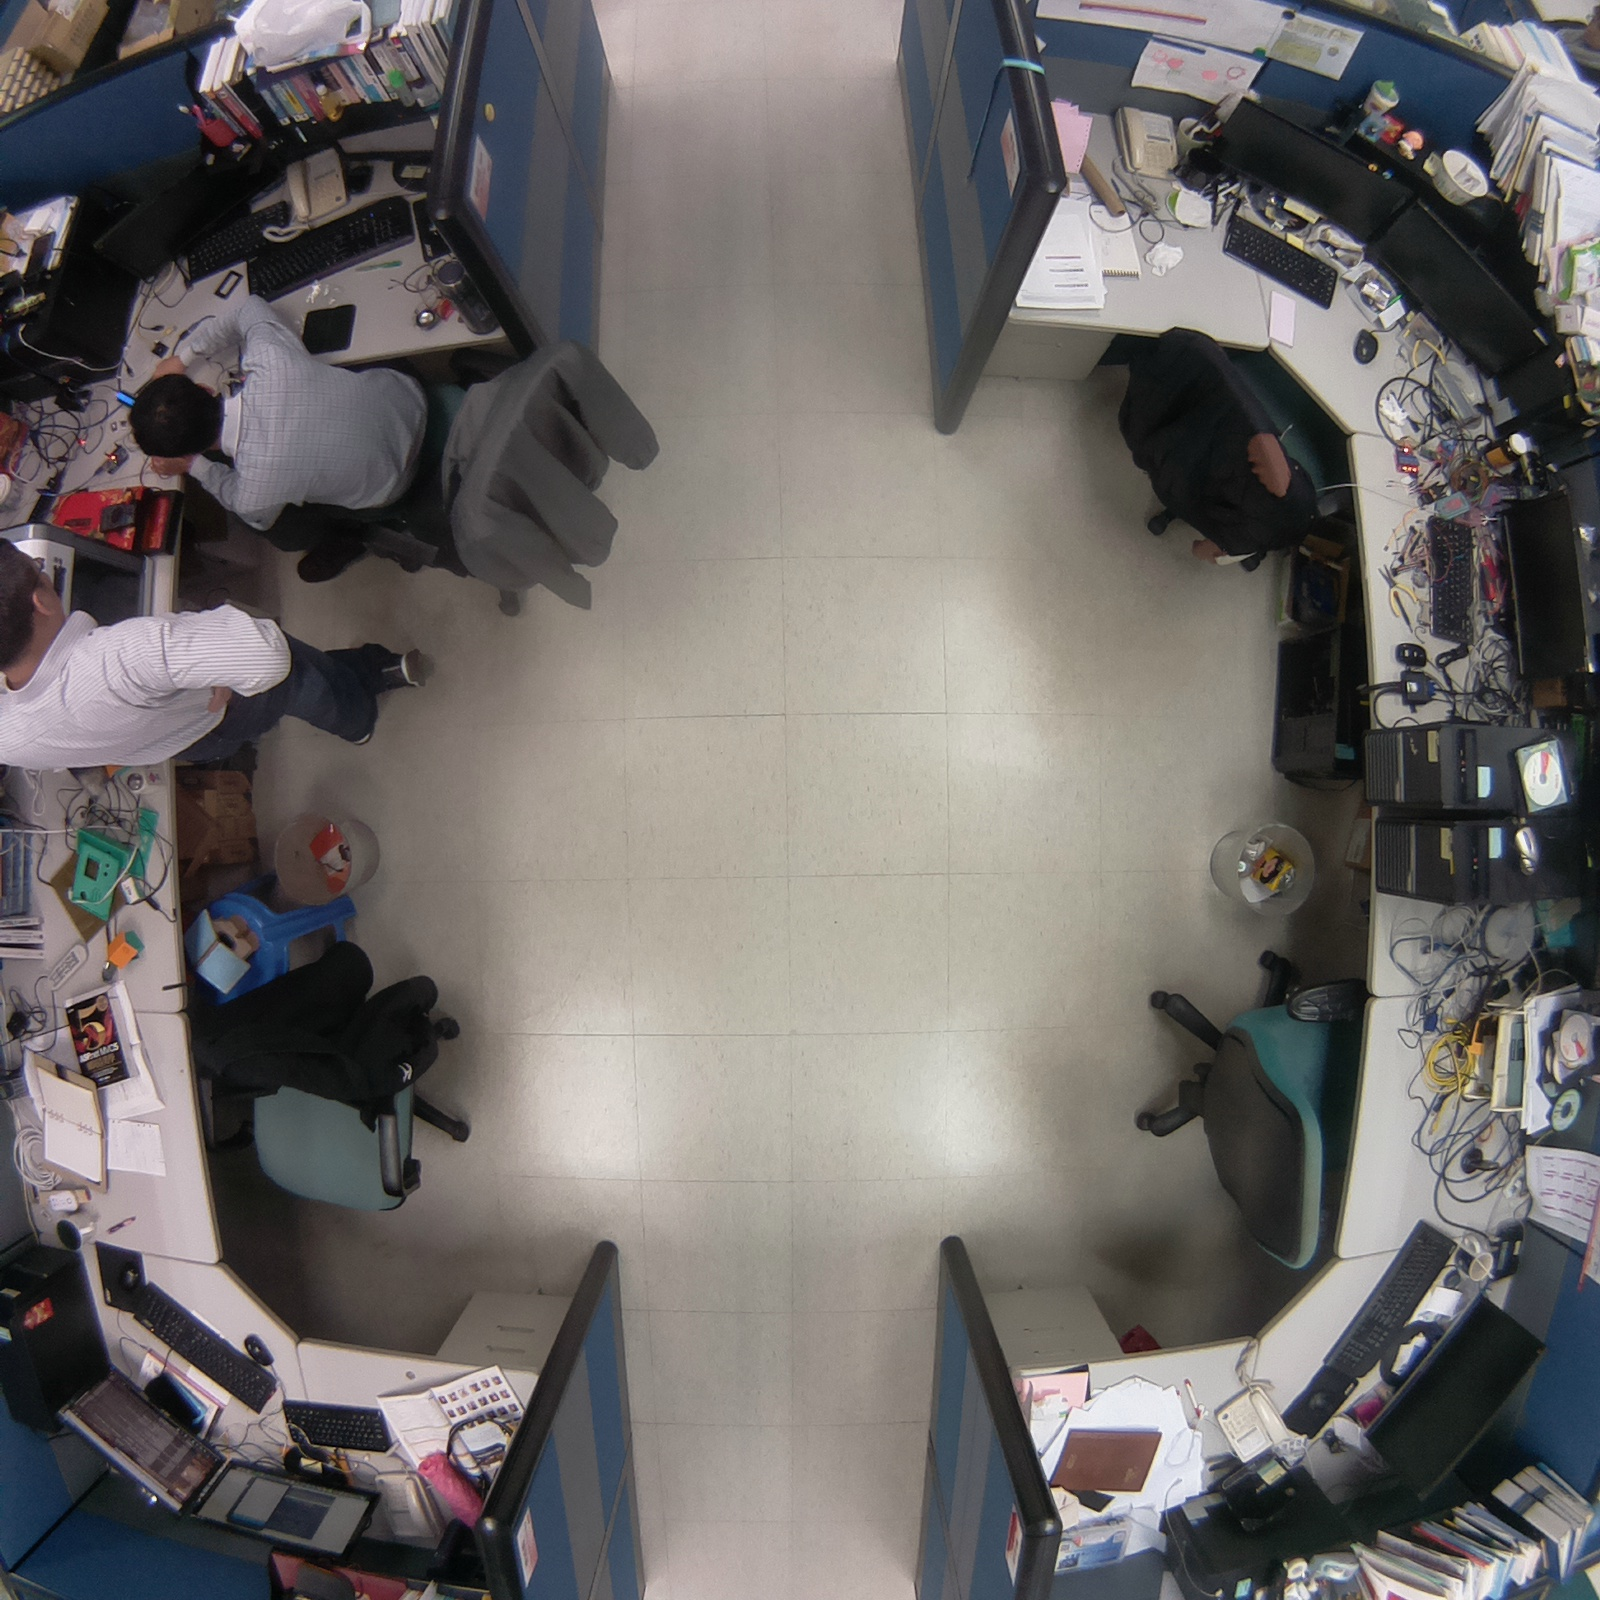chair: (1127, 919, 1383, 1288), (183, 937, 496, 1240), (1099, 304, 1363, 591)
head: (119, 365, 232, 468), (1, 531, 60, 684)
sitting: (125, 315, 678, 632), (1, 541, 442, 793)
